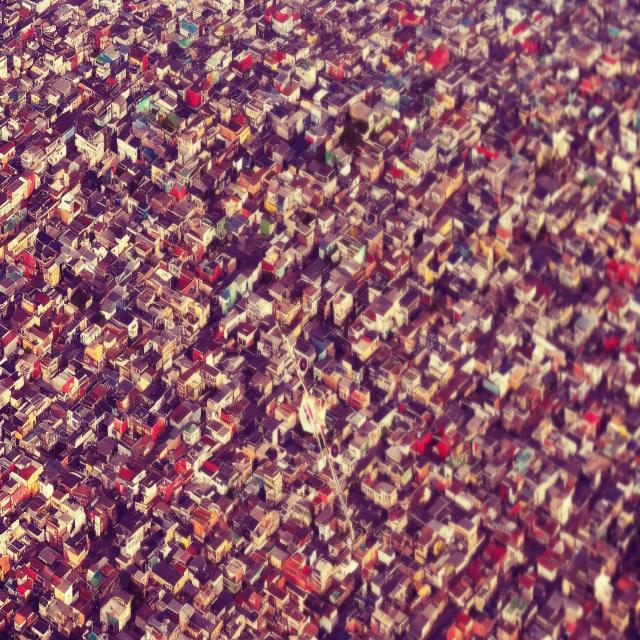airplane: (280, 335, 356, 537)
